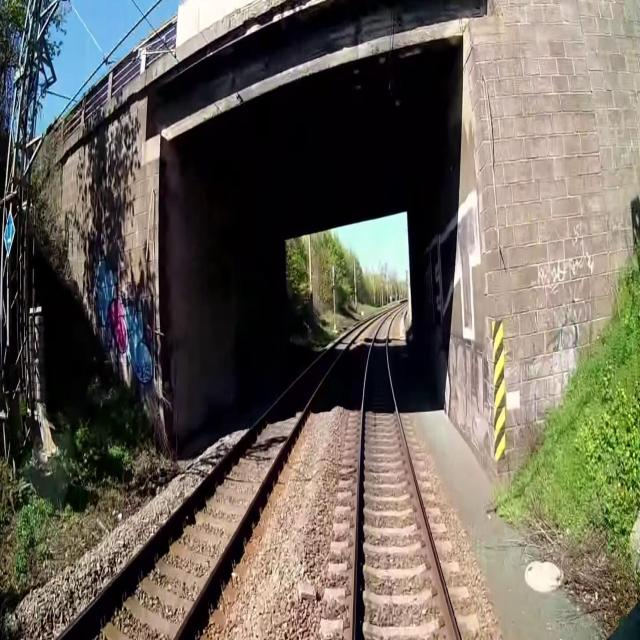rail-track: (63, 324, 364, 639), (356, 313, 455, 639)
